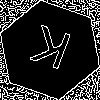K: (25, 25, 74, 79)
